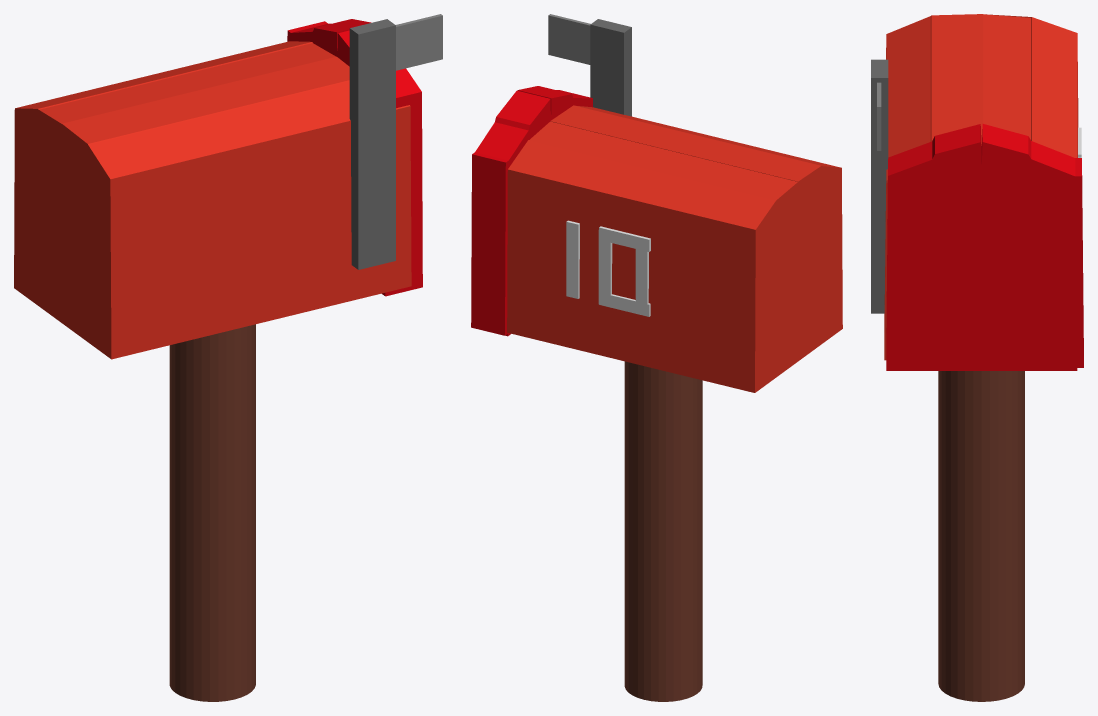
Rendered from brievenbus.fbx.
3 renders of one model, left to right at view 1: azimuth 30°, elevation 25°; view 2: azimuth 150°, elevation 25°; view 3: azimuth 270°, elevation 25°, orthographic. The views are drawn at different scales.
Visible parts, largest first — view 1: Cube, Cylinder, Cube.001, Cube.003, Cube.002; view 2: Cube, Cylinder, Cube.003, Cube.001, Cube.002, Cube.005, Cube.006, Cube.007, Cube.004; view 3: Cube.003, Cylinder, Cube, Cube.001.
Part boxes in pixels (x1,y1,x2,y2): Cube: (14,41,411,359); Cylinder: (169,324,255,701); Cube.001: (349,19,395,269); Cube.003: (287,19,422,296); Cube.002: (396,14,442,70); Cube: (507,105,842,392); Cylinder: (624,361,702,701); Cube.003: (471,86,592,336); Cube.001: (590,19,631,116); Cube.002: (548,14,590,64); Cube.005: (566,220,579,298); Cube.006: (598,230,612,306); Cube.007: (635,240,648,315); Cube.004: (599,226,650,251); Cube.003: (886,124,1083,370); Cylinder: (938,371,1024,701); Cube: (884,14,1078,360); Cube.001: (871,59,888,313).
Size of the model in its own units: 1.75 by 3.4 by 0.9824.
